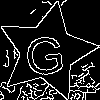G: (21, 26, 66, 77)
